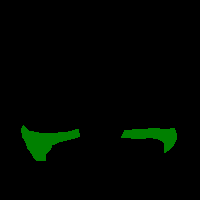mutande: (21, 124, 80, 161), (120, 127, 177, 153)
